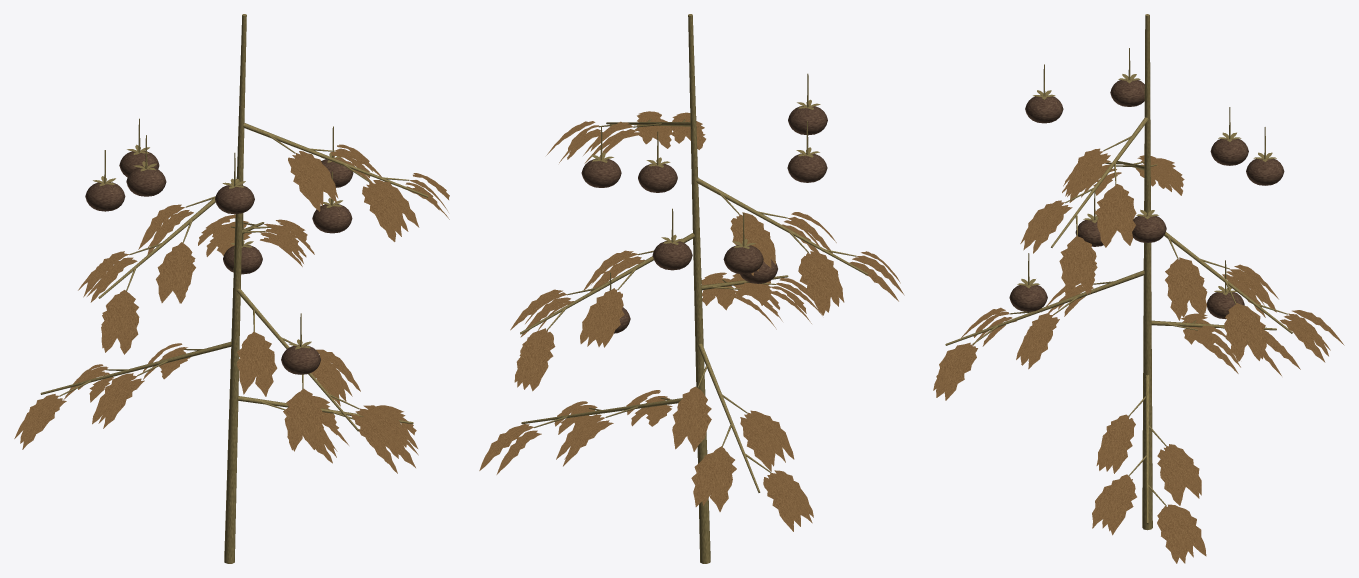
The model's file is PZ_Crop_Tomato_Dead.glb.
3 views of the same model, side by side, from view 1: azimuth 30°, elevation 25°; view 2: azimuth 150°, elevation 25°; view 3: azimuth 270°, elevation 25° (orthographic). The views are drawn at different scales.
Visible parts, largest first — view 1: PZ_Crop_Tomato_Dead_03_Serrated_Compound_Leaves, PZ_Crop_Tomato_Dead_01_Tomato_Branches, PZ_Crop_Tomato_Dead_05_Ripe_Or_Rotten_Fruits, PZ_Crop_Tomato_Dead_02_Petioles, PZ_Crop_Tomato_Dead_06_Star_Calyxes; view 2: PZ_Crop_Tomato_Dead_03_Serrated_Compound_Leaves, PZ_Crop_Tomato_Dead_01_Tomato_Branches, PZ_Crop_Tomato_Dead_05_Ripe_Or_Rotten_Fruits, PZ_Crop_Tomato_Dead_02_Petioles, PZ_Crop_Tomato_Dead_06_Star_Calyxes; view 3: PZ_Crop_Tomato_Dead_03_Serrated_Compound_Leaves, PZ_Crop_Tomato_Dead_01_Tomato_Branches, PZ_Crop_Tomato_Dead_05_Ripe_Or_Rotten_Fruits, PZ_Crop_Tomato_Dead_02_Petioles, PZ_Crop_Tomato_Dead_06_Star_Calyxes.
Boxes of the visible parts, x1,y1,x2,y2 form: PZ_Crop_Tomato_Dead_03_Serrated_Compound_Leaves: (14,144,449,473); PZ_Crop_Tomato_Dead_01_Tomato_Branches: (40,14,428,563); PZ_Crop_Tomato_Dead_05_Ripe_Or_Rotten_Fruits: (85,150,353,374); PZ_Crop_Tomato_Dead_02_Petioles: (59,135,409,419); PZ_Crop_Tomato_Dead_06_Star_Calyxes: (93,144,342,349); PZ_Crop_Tomato_Dead_03_Serrated_Compound_Leaves: (479,111,904,531); PZ_Crop_Tomato_Dead_01_Tomato_Branches: (520,14,867,563); PZ_Crop_Tomato_Dead_05_Ripe_Or_Rotten_Fruits: (581,105,827,333); PZ_Crop_Tomato_Dead_02_Petioles: (534,119,856,472); PZ_Crop_Tomato_Dead_06_Star_Calyxes: (591,99,820,248); PZ_Crop_Tomato_Dead_03_Serrated_Compound_Leaves: (933,148,1344,563); PZ_Crop_Tomato_Dead_01_Tomato_Branches: (945,14,1292,530); PZ_Crop_Tomato_Dead_05_Ripe_Or_Rotten_Fruits: (1009,78,1284,319); PZ_Crop_Tomato_Dead_02_Petioles: (972,136,1287,505); PZ_Crop_Tomato_Dead_06_Star_Calyxes: (1017,74,1276,295).
Bounding box in the file's own units: 0.6124 × 0.8653 × 0.6209.
Materials: 3 (3 with a texture image).
